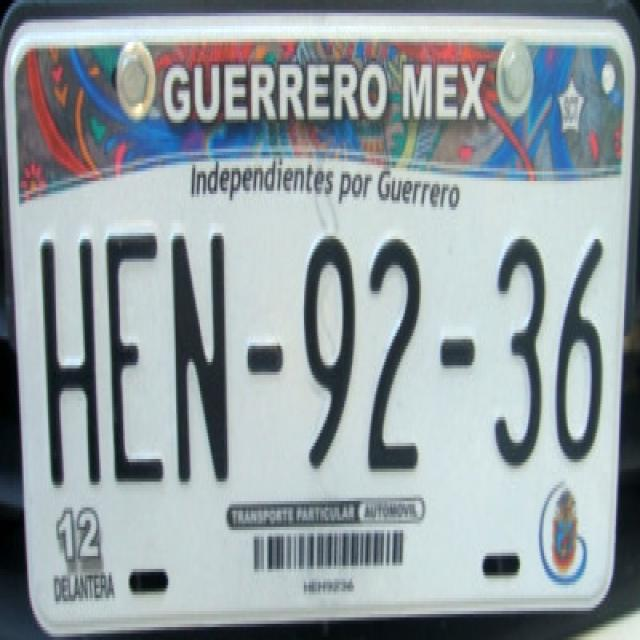placa: (14, 215, 618, 493)
